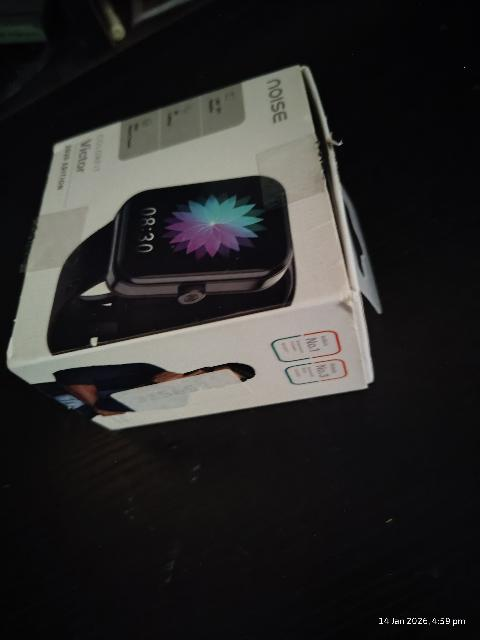noise victor smartwatch: (25, 66, 397, 433)
